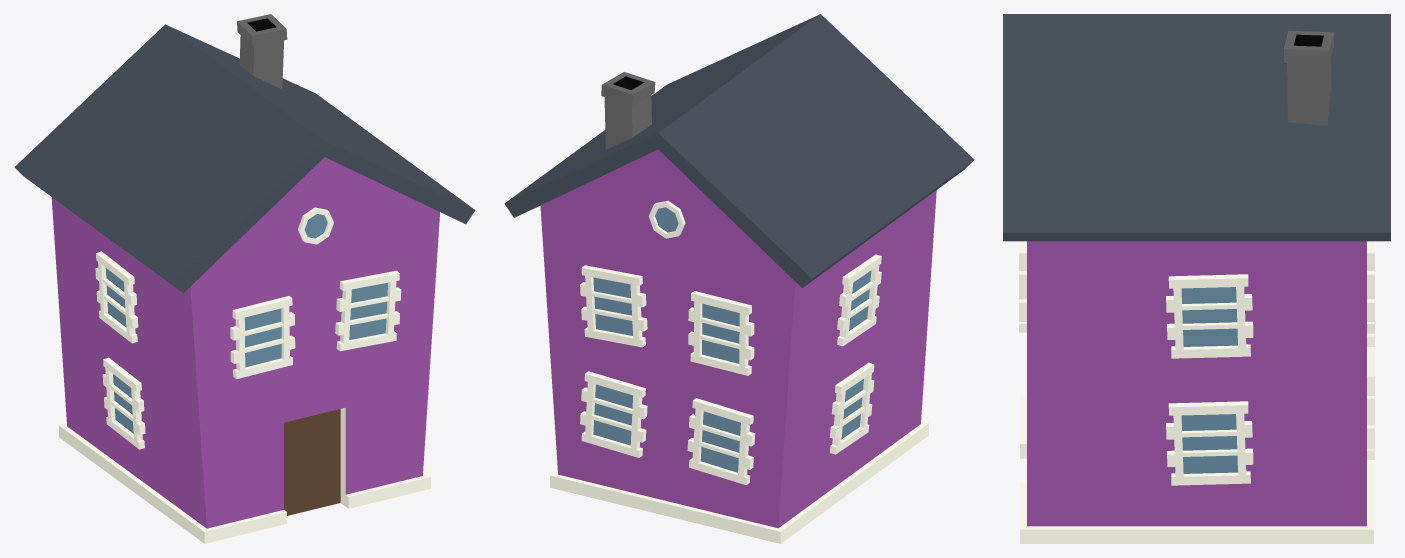
Rendered from house4.gltf.
The picture shows the model from 3 angles, left to right: view 1: azimuth 30°, elevation 25°; view 2: azimuth 150°, elevation 25°; view 3: azimuth 270°, elevation 25°; orthographic projection. The views are drawn at different scales.
Visible parts, largest first — view 1: h2.003; view 2: h2.003; view 3: h2.003.
Boxes of the visible parts, x1,y1,x2,y2 form: h2.003: [14, 14, 475, 543]; h2.003: [504, 14, 974, 543]; h2.003: [1003, 14, 1390, 543].
Bounding box in the file's own units: 7.12 × 8.78 × 6.51.
1 material, 1 textured.
